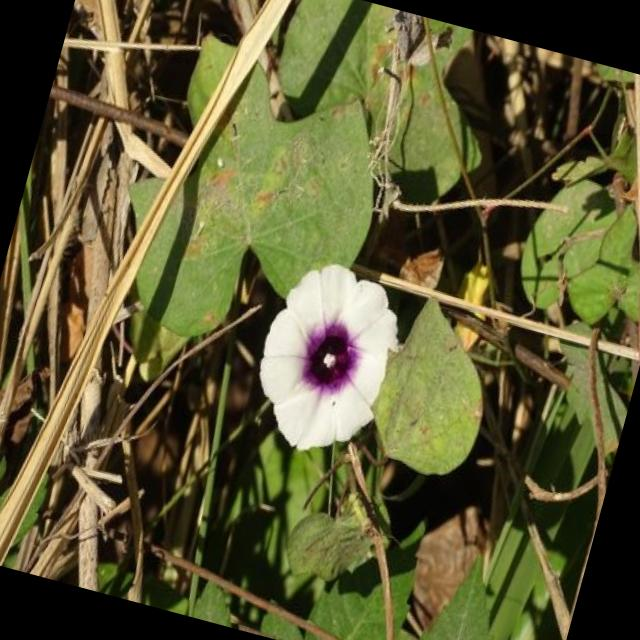ipomoea: (235, 246, 418, 472)
